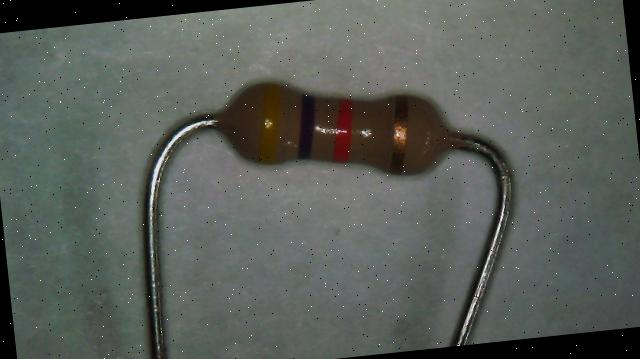gold: (384, 96, 416, 174)
orange: (327, 98, 358, 163)
resistor: (207, 67, 490, 195)
violet: (290, 93, 320, 160)
yellow: (250, 81, 287, 164)
